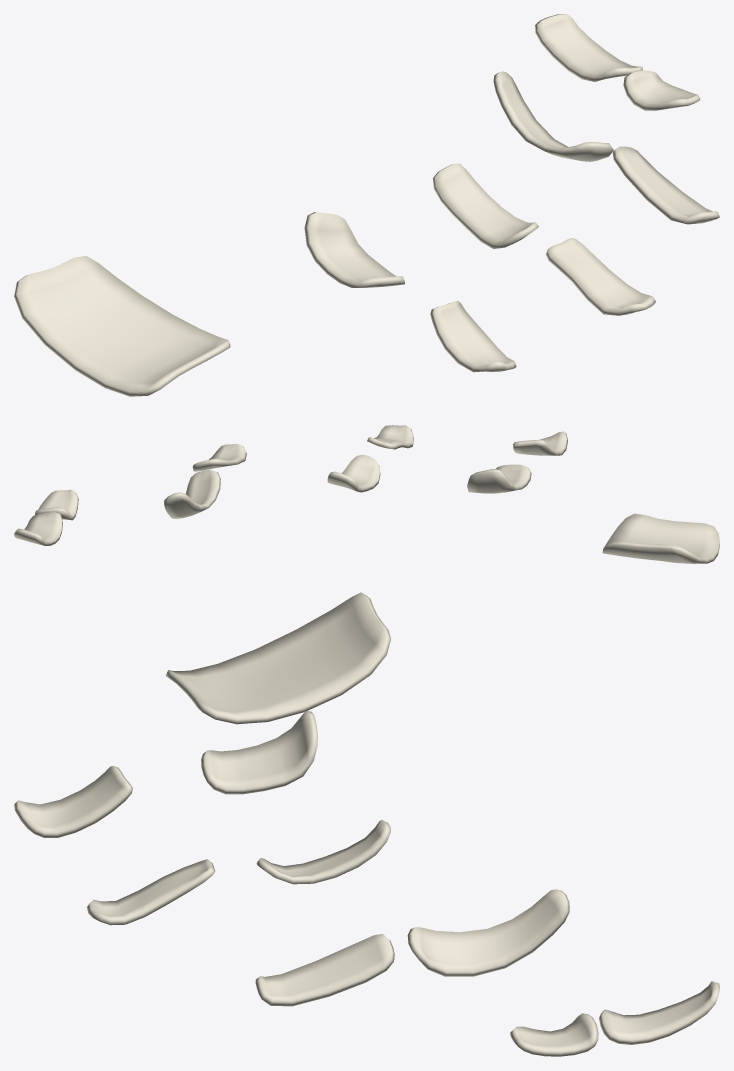
3 views of the same model, one above another, from view 1: azimuth 30°, elevation 25°; view 2: azimuth 150°, elevation 25°; view 3: azimuth 270°, elevation 25° (orthographic). The views are drawn at different scales.
Visible parts, largest first — view 1: ZA_f968451901ce35b0; view 2: ZA_f968451901ce35b0; view 3: ZA_f968451901ce35b0.
Part boxes in pixels (bbox=[...]): ZA_f968451901ce35b0: bbox=[14, 14, 719, 396]; ZA_f968451901ce35b0: bbox=[14, 425, 719, 563]; ZA_f968451901ce35b0: bbox=[14, 592, 719, 1056].
Size of the model in its own units: 0.073 by 0.008 by 0.0544.
